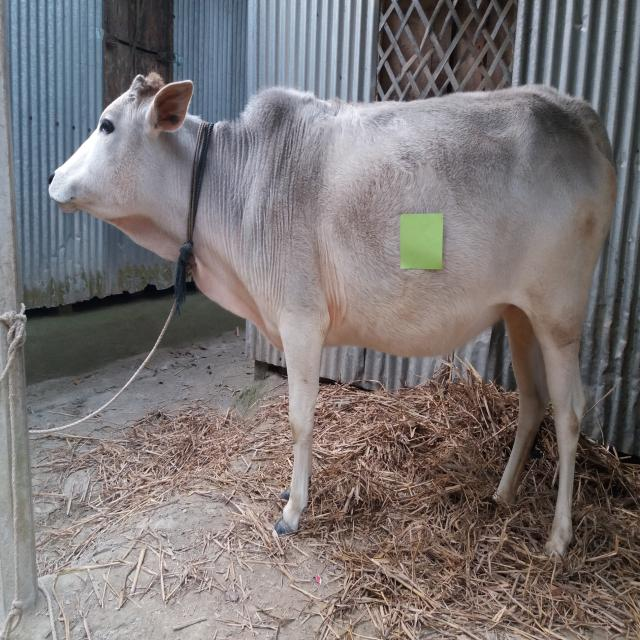badan_sapi: (270, 86, 615, 360)
sapi: (40, 61, 624, 566)
